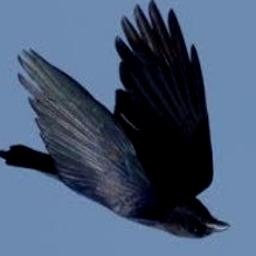Crow: (0, 0, 231, 239)
